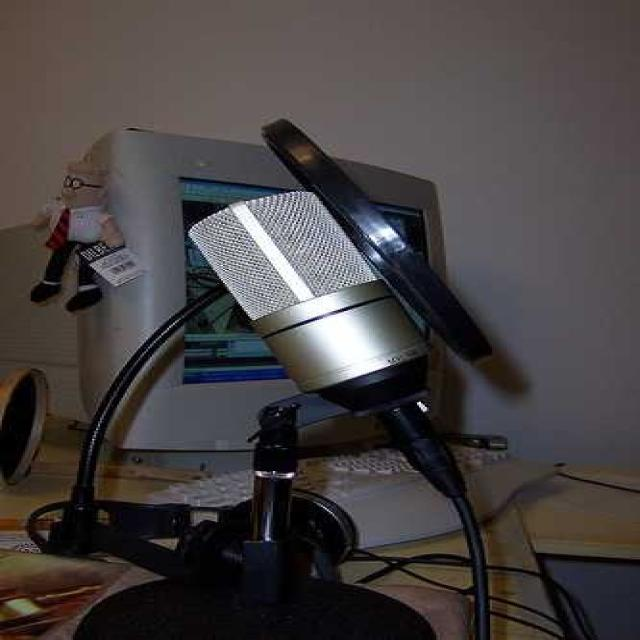microphone: (187, 191, 431, 416)
